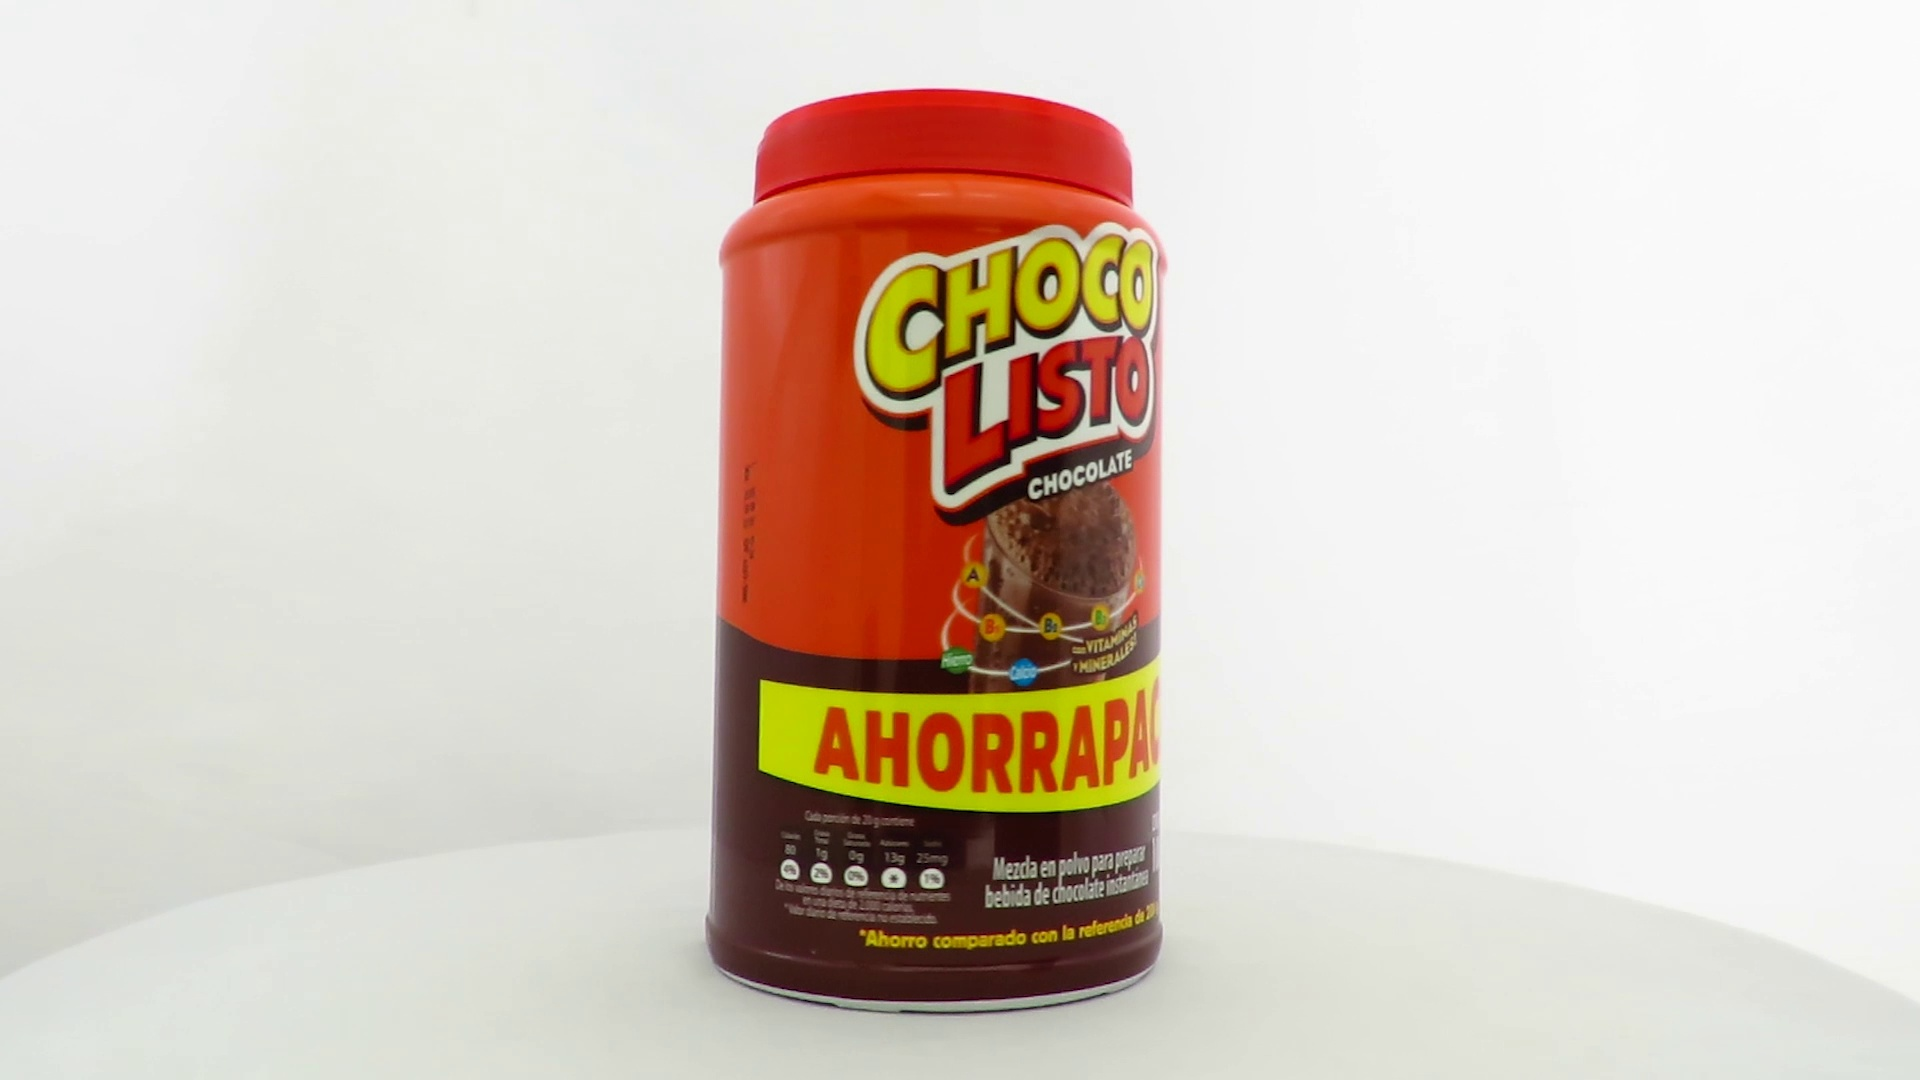COL0170103TRR00100: (700, 83, 1168, 1021)
